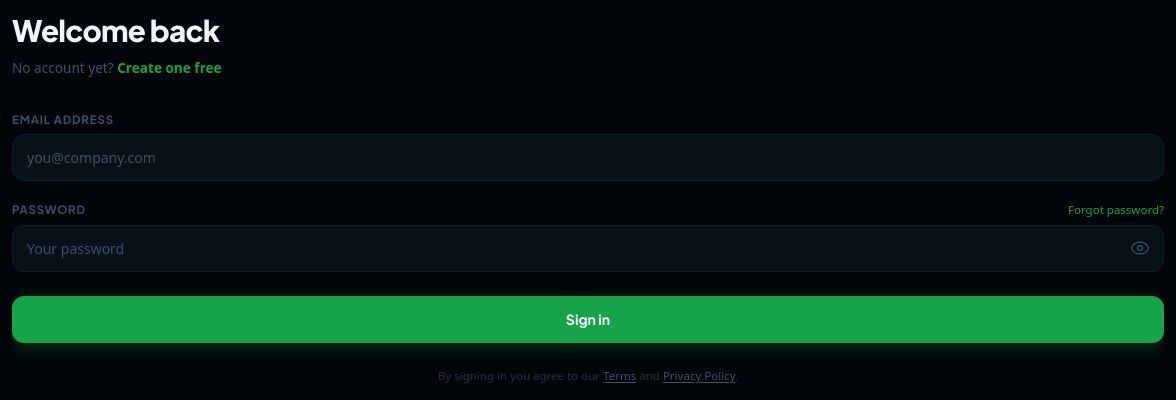
Test: LoginForm › disables submit button while loading
The image size is (1176, 400).
In the field with placeholder "you@company.com": (588, 158) [12,134,1164,181], type "test@test.com"
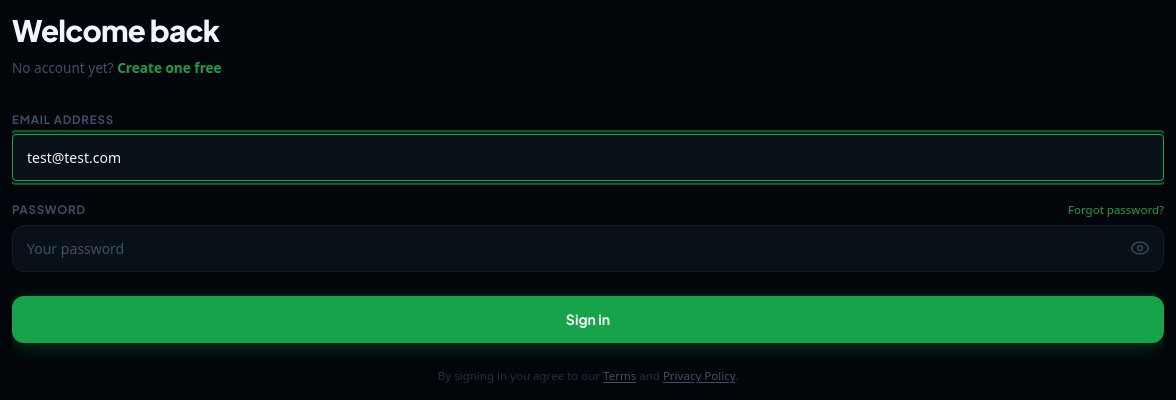
In the password field with placeholder "Your password": (588, 248) [12,225,1164,272], type "Pass123!"
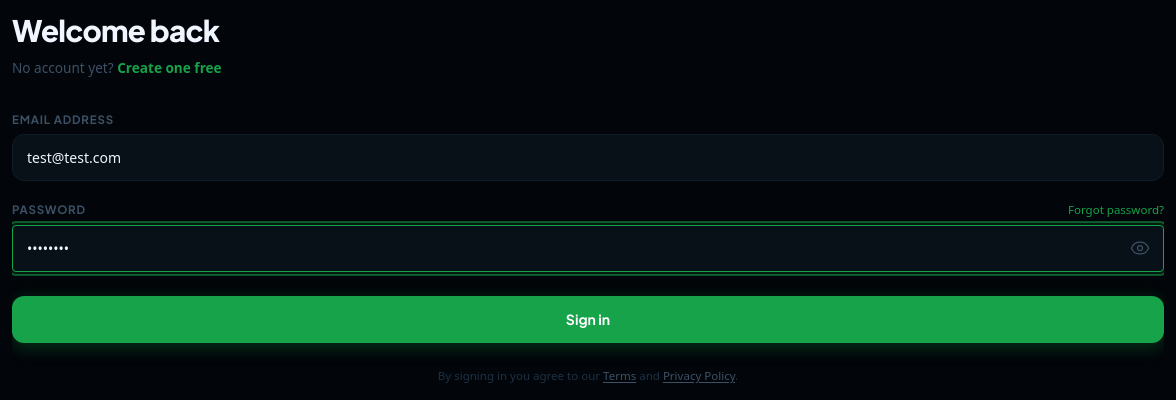
Click the button "Sign in": (588, 319) [12,296,1164,343]
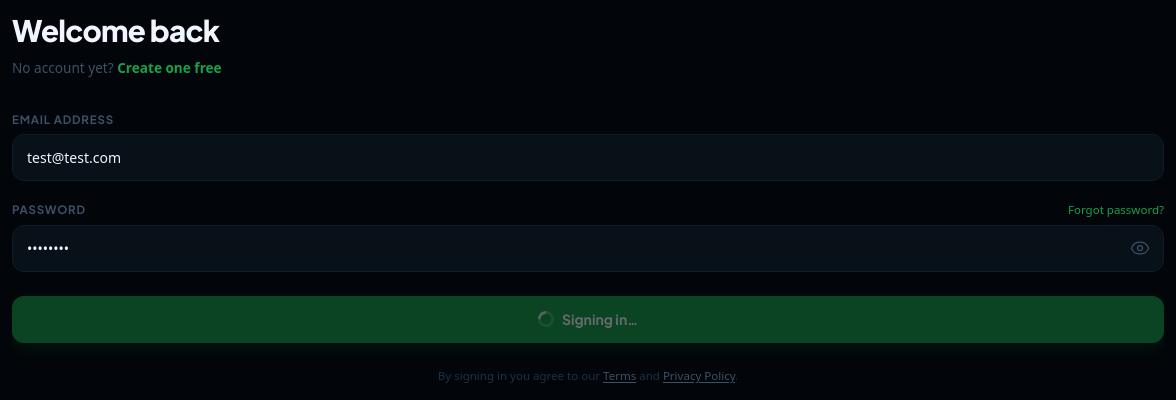
Expected: the button "Signing in…" is disabled, [12,296,1164,343]
